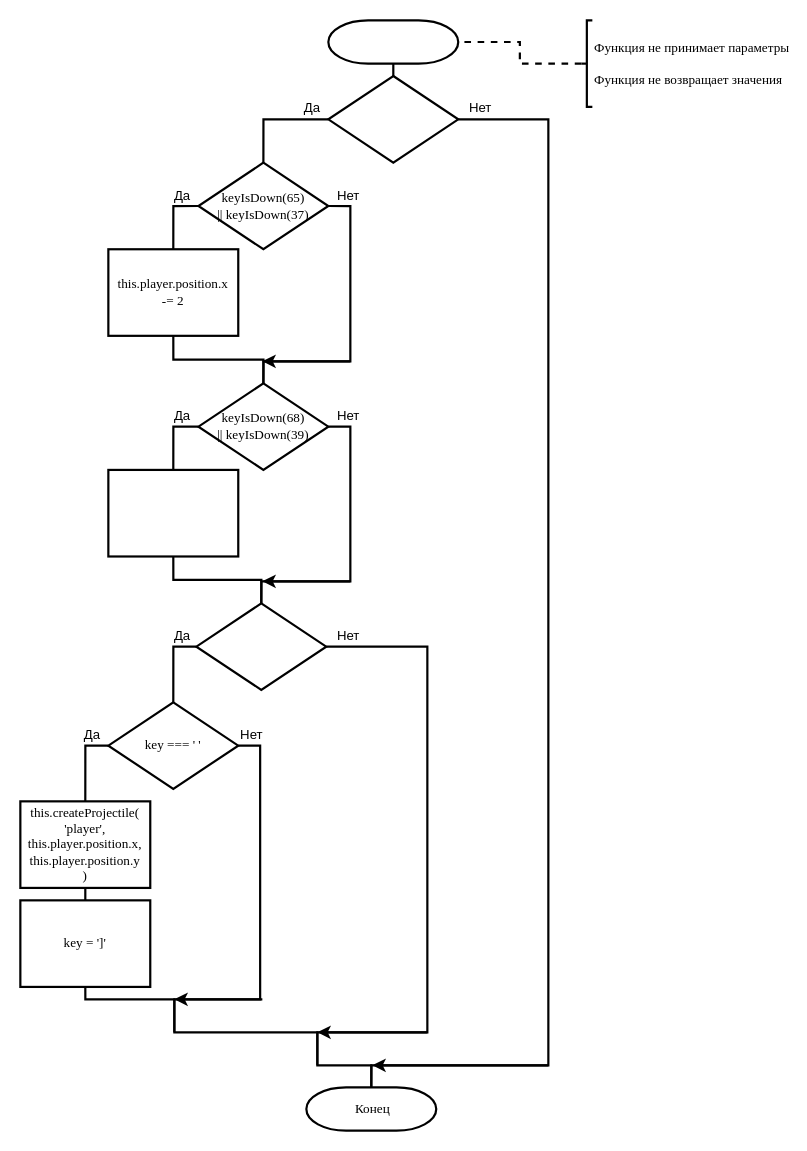
This 807x1151 diagram has some shape labels left out. The shapes that lost their labels are listed below. From the top down, each one's box as (x1, y1, x2, y2) in pixels, then its label:
(327, 19, 459, 64): GameState ::playerInputs()
(327, 74, 459, 163): this.playing
(107, 468, 239, 557): this.player.position.x += 2
(195, 602, 327, 690): keyIsPressed
